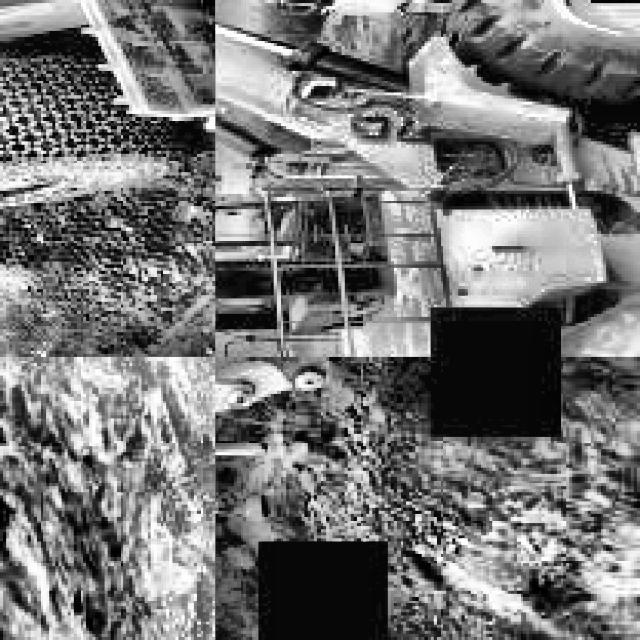buldozerpayloadergrader: (215, 0, 640, 354), (0, 0, 212, 341)
excavator: (215, 357, 640, 640)
